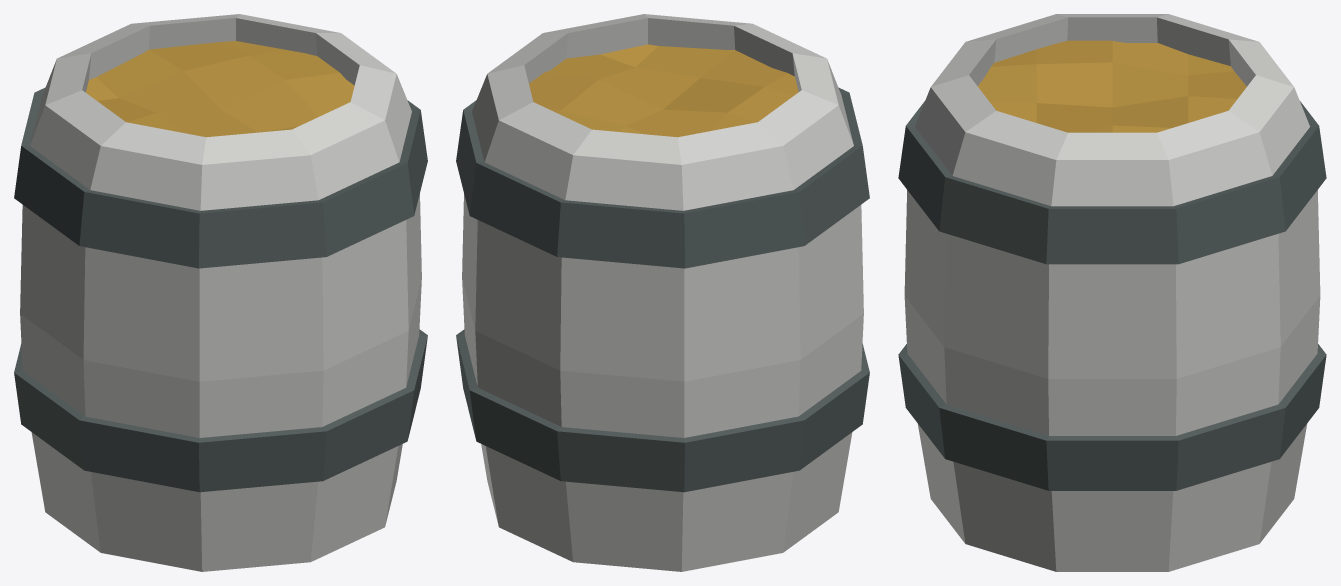
The model's file is Barrel_5_White.fbx.
The picture shows the model from 3 angles, left to right: view 1: azimuth 30°, elevation 25°; view 2: azimuth 150°, elevation 25°; view 3: azimuth 270°, elevation 25°; orthographic projection.
Parts seen in each view (by area): view 1: Barrel_5_White_Part_1, Barrel_5_White_Part_2, Barrel_5_White_Part_3; view 2: Barrel_5_White_Part_1, Barrel_5_White_Part_2, Barrel_5_White_Part_3; view 3: Barrel_5_White_Part_1, Barrel_5_White_Part_2, Barrel_5_White_Part_3.
Boxes of the visible parts, x1,y1,x2,y2 form: Barrel_5_White_Part_1: [20, 14, 421, 571]; Barrel_5_White_Part_2: [14, 87, 427, 492]; Barrel_5_White_Part_3: [86, 41, 354, 137]; Barrel_5_White_Part_1: [462, 14, 863, 571]; Barrel_5_White_Part_2: [456, 87, 869, 492]; Barrel_5_White_Part_3: [529, 44, 798, 137]; Barrel_5_White_Part_1: [904, 14, 1320, 571]; Barrel_5_White_Part_2: [898, 101, 1326, 490]; Barrel_5_White_Part_3: [977, 40, 1246, 132].
Bounding box in the file's own units: 134 × 154 × 141.
